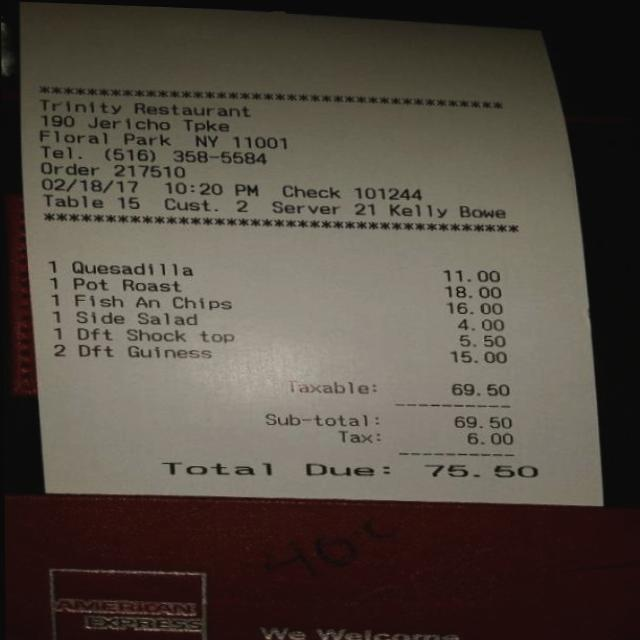Paper: (13, 0, 606, 510)
